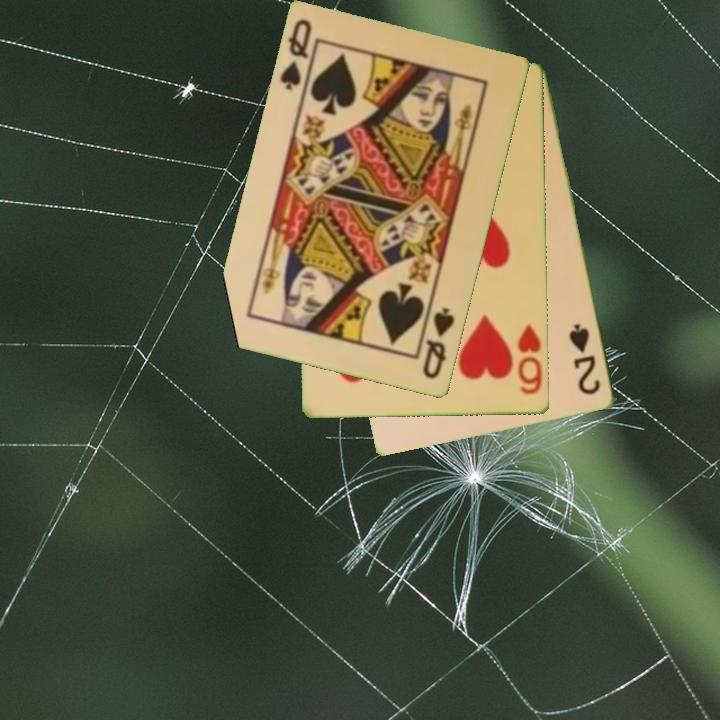2s: (566, 320, 604, 398)
6h: (514, 321, 546, 398)
Qs: (419, 304, 458, 383), (276, 16, 315, 94)
